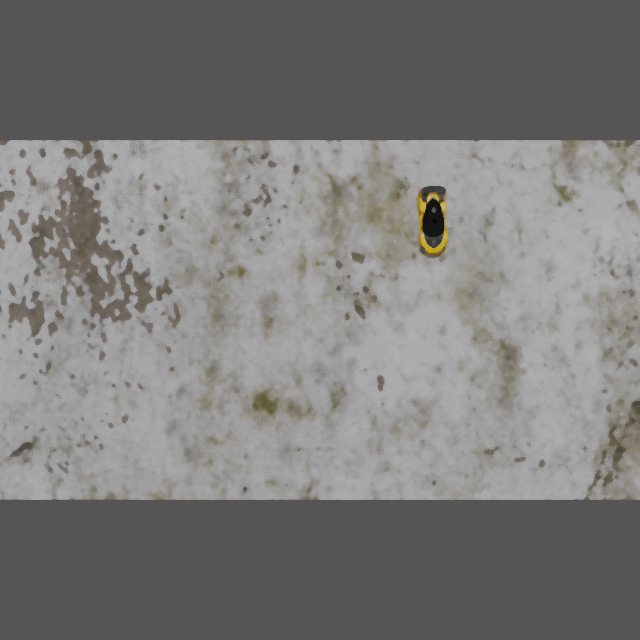car: (415, 185, 450, 255)
